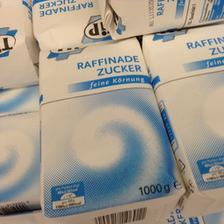Zucker: (36, 37, 184, 223), (140, 23, 224, 210)
